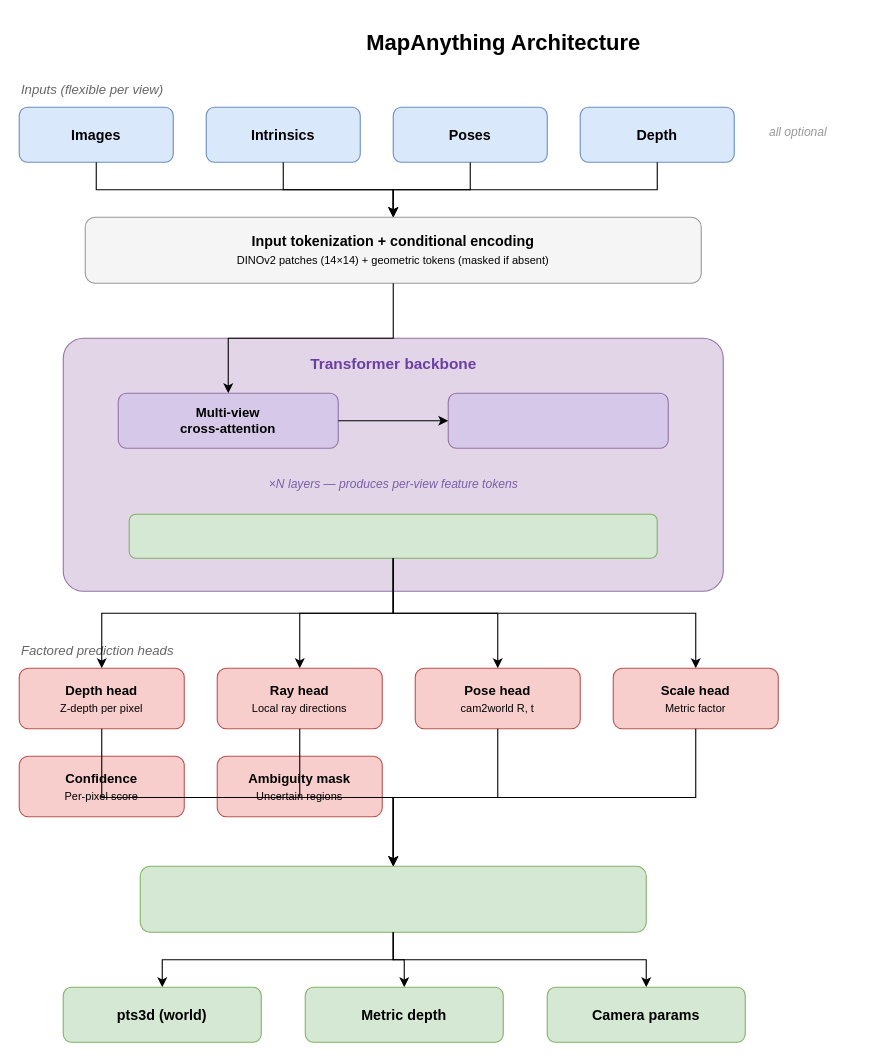
The diagram is 875 pixels wide and 1062 high, and some of its shapes have lost their labels. The shapes that lost their labels are listed below. From the top down, each one's centre as x and y in pixels, then its label:
the point at 557,420: Self-attention + FFN
the point at 392,535: Global tokens (shared across views for consistency)
the point at 392,898: Factored composition pts3d = scale × depth × rays, posed into world frame
